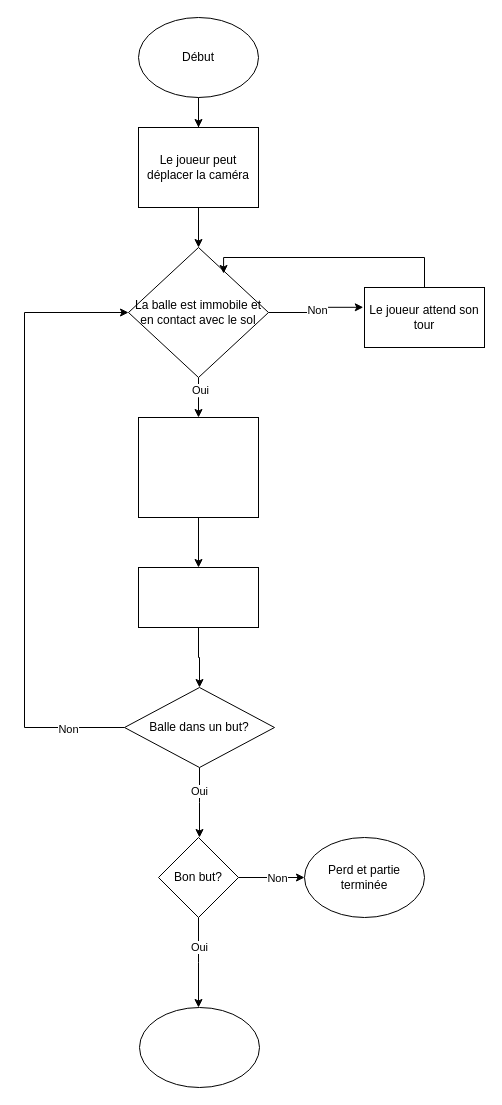
Some shapes in this 502 by 1105 pixel diagram are drawn without their labels. Each missing label, with the centre of its shape:
balle est propulsée vers l'avant: (x=198, y=597)
donne un coup sur la balle: (x=198, y=467)
Gagne et partie terminée: (x=199, y=1047)
